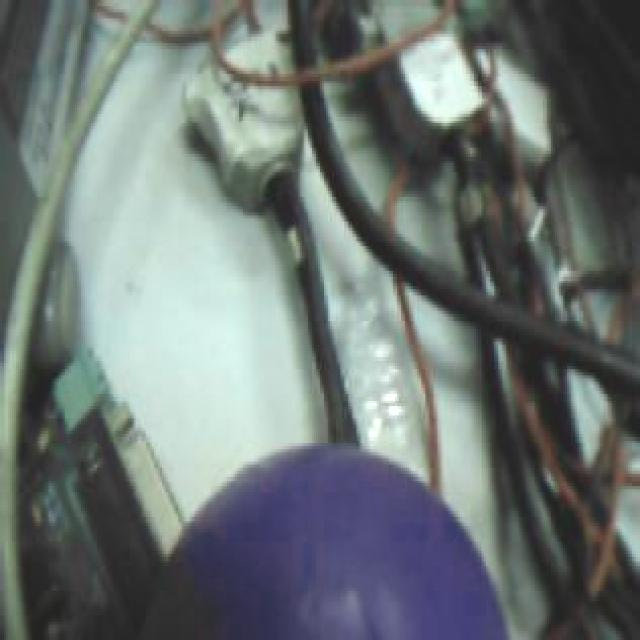BallPurple: (157, 439, 510, 640)
